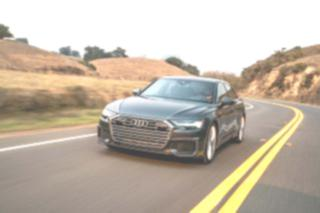Audi: (129, 117, 149, 130)
